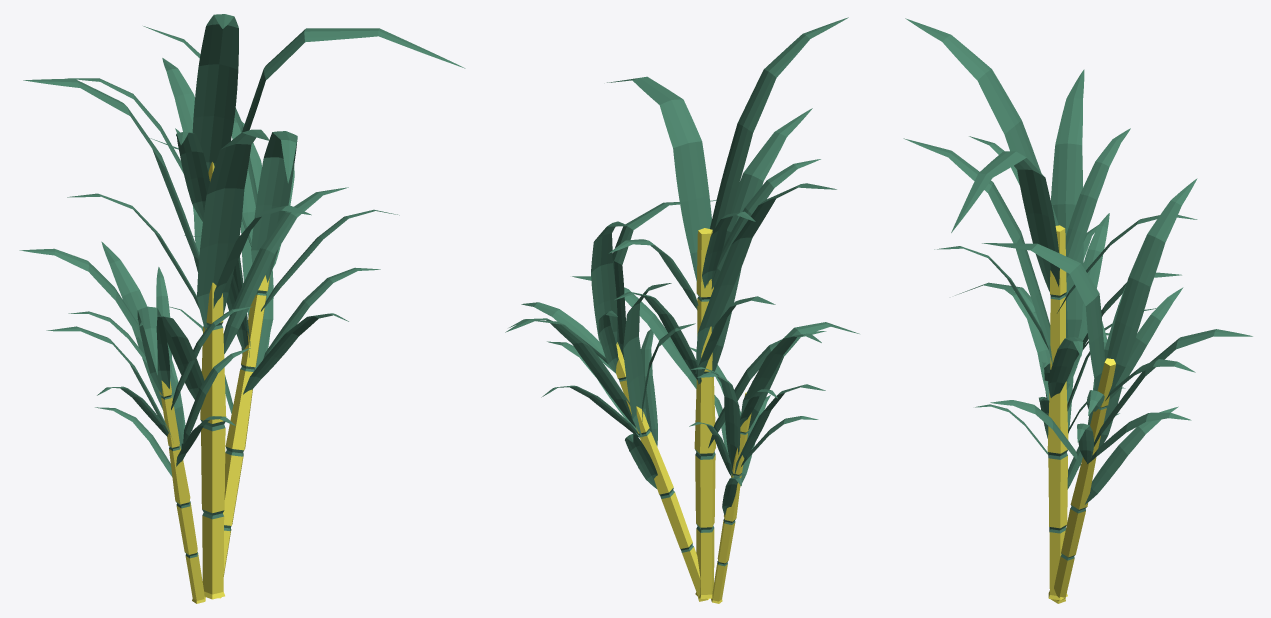
The model's file is sugarcane_big.fbx.
3 views of the same model, side by side, from view 1: azimuth 30°, elevation 25°; view 2: azimuth 150°, elevation 25°; view 3: azimuth 270°, elevation 25° (orthographic). The views are drawn at different scales.
Parts seen in each view (by area): view 1: Cylinder.004; view 2: Cylinder.004; view 3: Cylinder.004.
Part boxes in pixels (left/top/right/bottom): Cylinder.004: left=19, top=14, right=465, bottom=603; Cylinder.004: left=505, top=17, right=859, bottom=603; Cylinder.004: left=903, top=18, right=1252, bottom=603.
Size of the model in its own units: 374 by 606 by 363.
